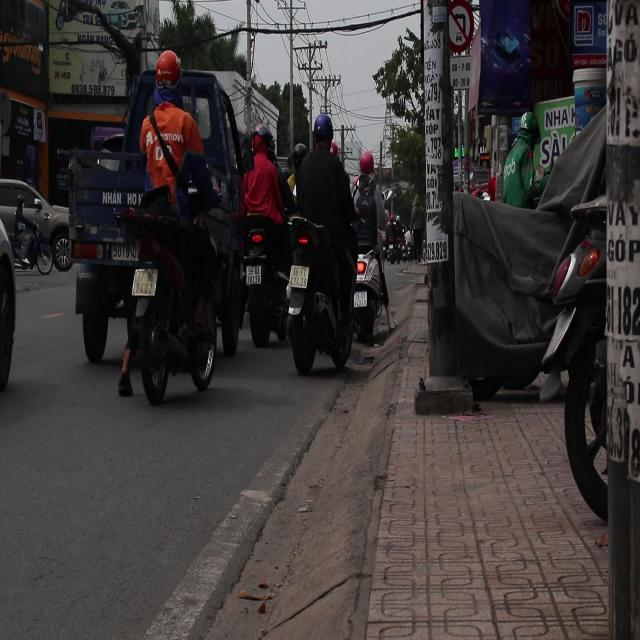car: (0, 178, 71, 265)
motorbike: (120, 198, 227, 406), (282, 216, 353, 374), (245, 202, 293, 391), (349, 187, 387, 371), (3, 212, 53, 284)
